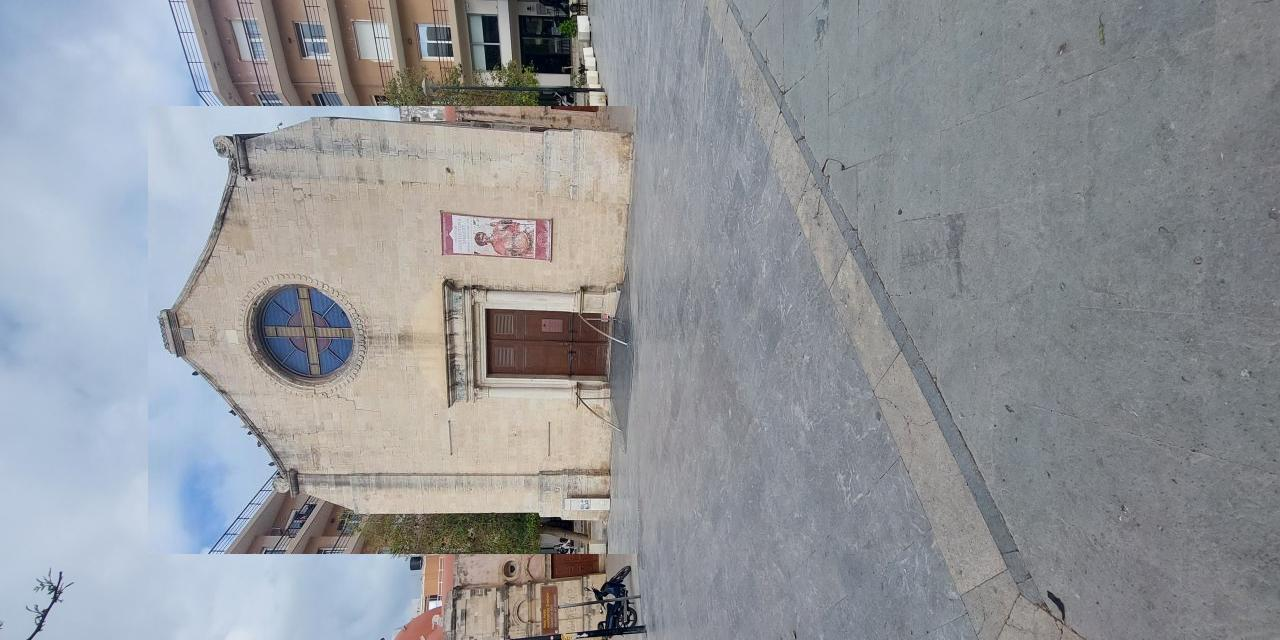Agia Aikaterini: (150, 107, 640, 555)
